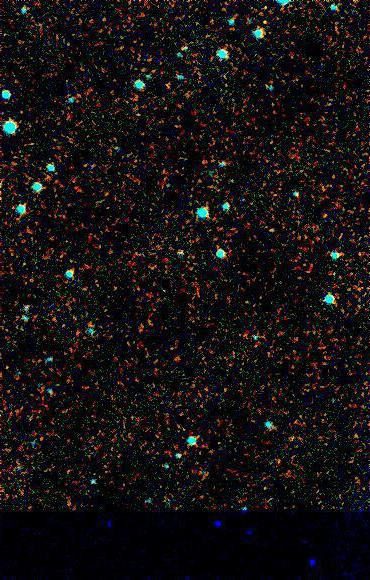star: (262, 217, 292, 247)
